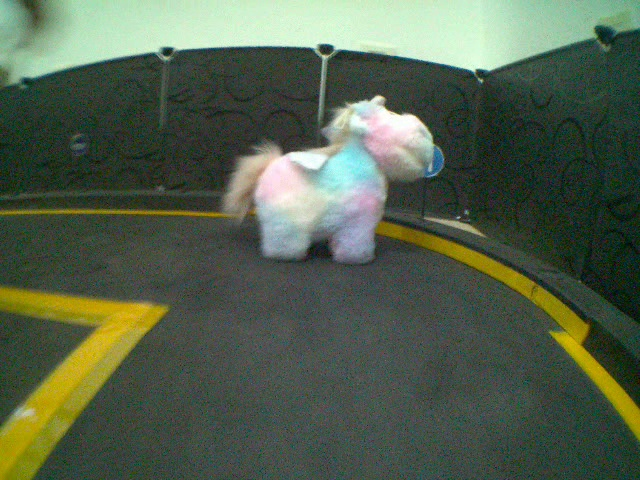unicorn: (219, 95, 438, 273)
